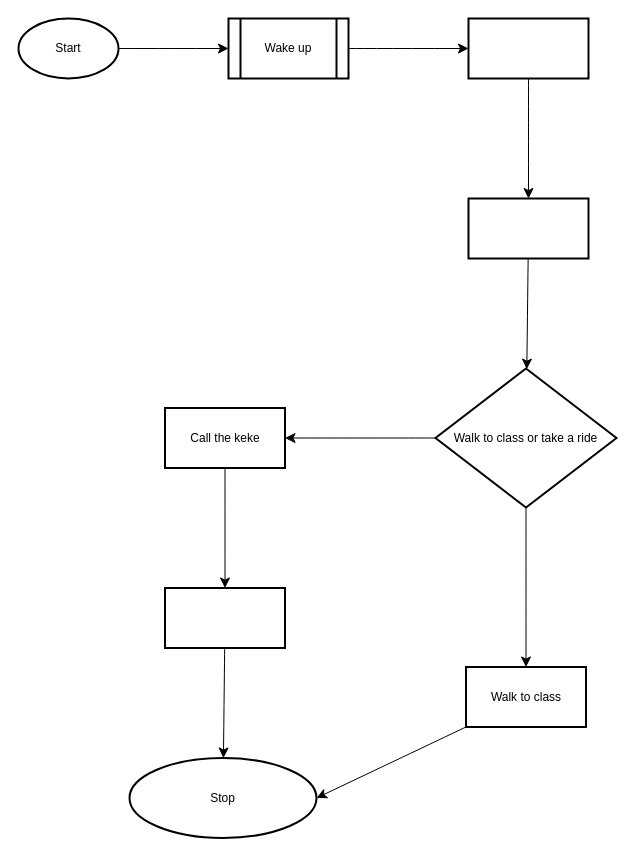
Image size: 634x856. Some labels were removed from this diagram. Here are the shapes that lost their labels. From the top down, the centre of each, then its label:
At point 528,48: "Perform ablutions".
At point 528,228: "Get dressed".
At point 225,617: "Get to class".
